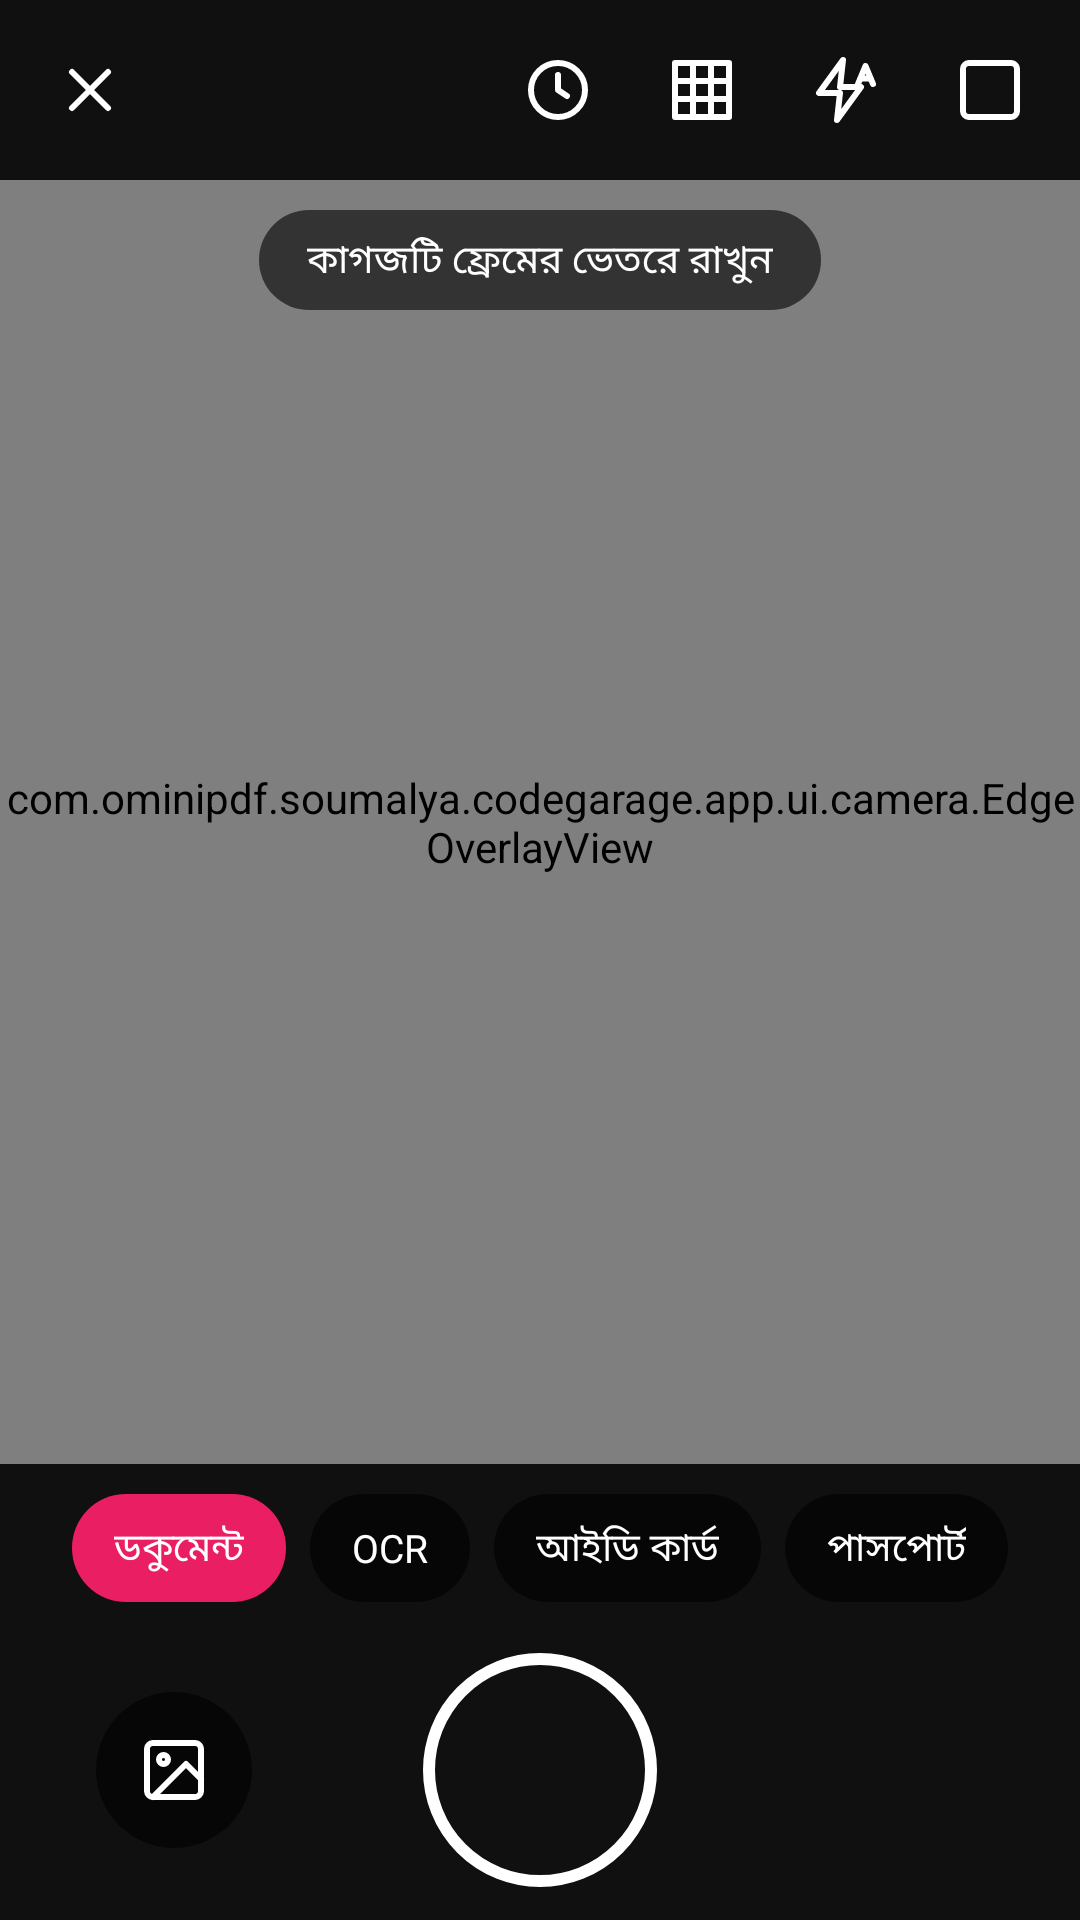

Where icons sit on this 1080 × 1920 app screen, as (x1, y1, x2, y2):
অটো-ক্যাপচার চালু: (528, 60, 588, 120)
গ্যালারি: (144, 1740, 204, 1800)
গ্রিড: (672, 60, 732, 120)
ফ্ল্যাশ: (816, 57, 876, 123)
বাতিল: (69, 68, 111, 111)
